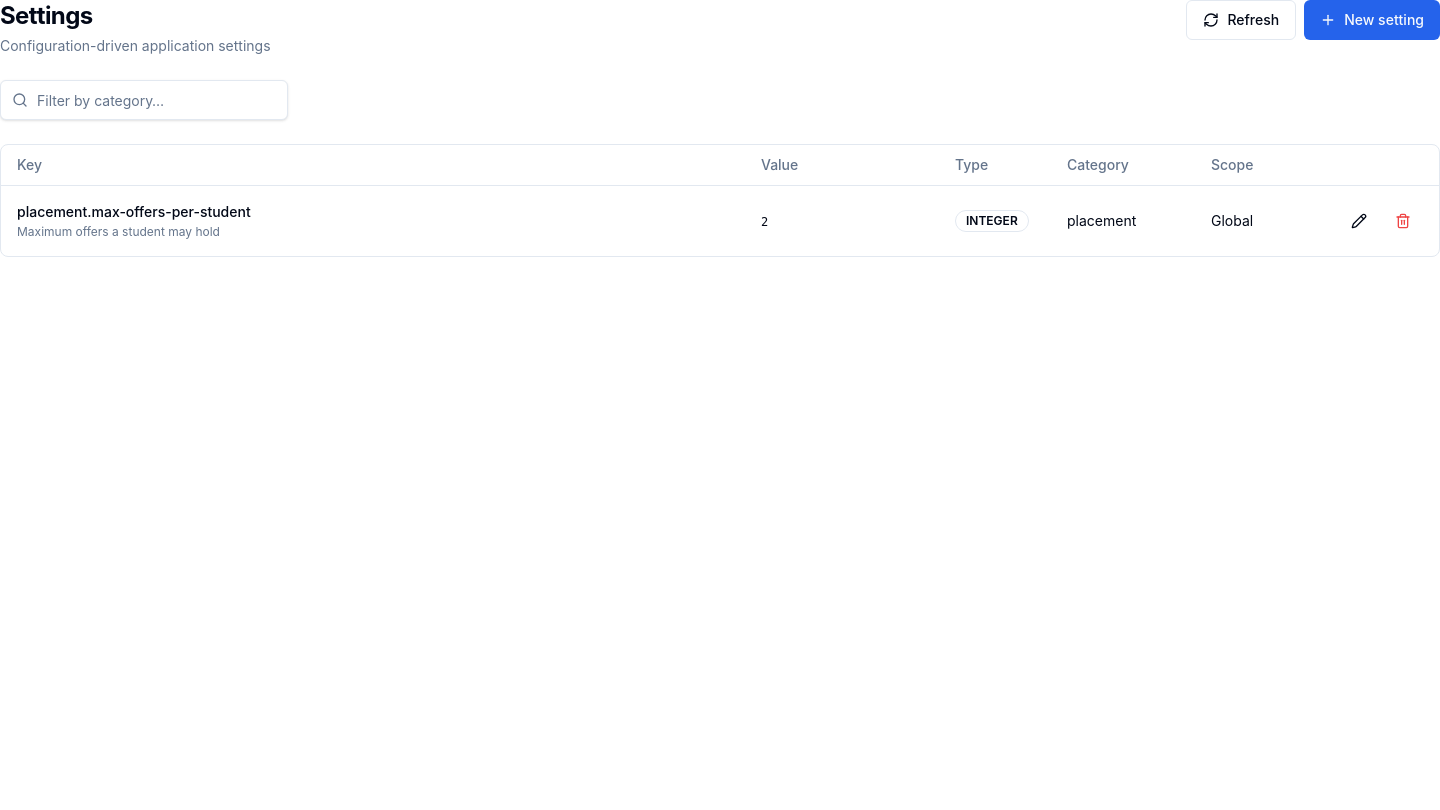
Test: SettingsPage › surfaces a backend failure instead of reporting success
Check: the text "placement.max-offers-per-student" is shown, box top-left (17, 202), bottom-right (251, 220)
Click the button named "edit placement.max-offers-per-student" at coordinates (1359, 220), box top-left (1339, 202), bottom-right (1379, 238)
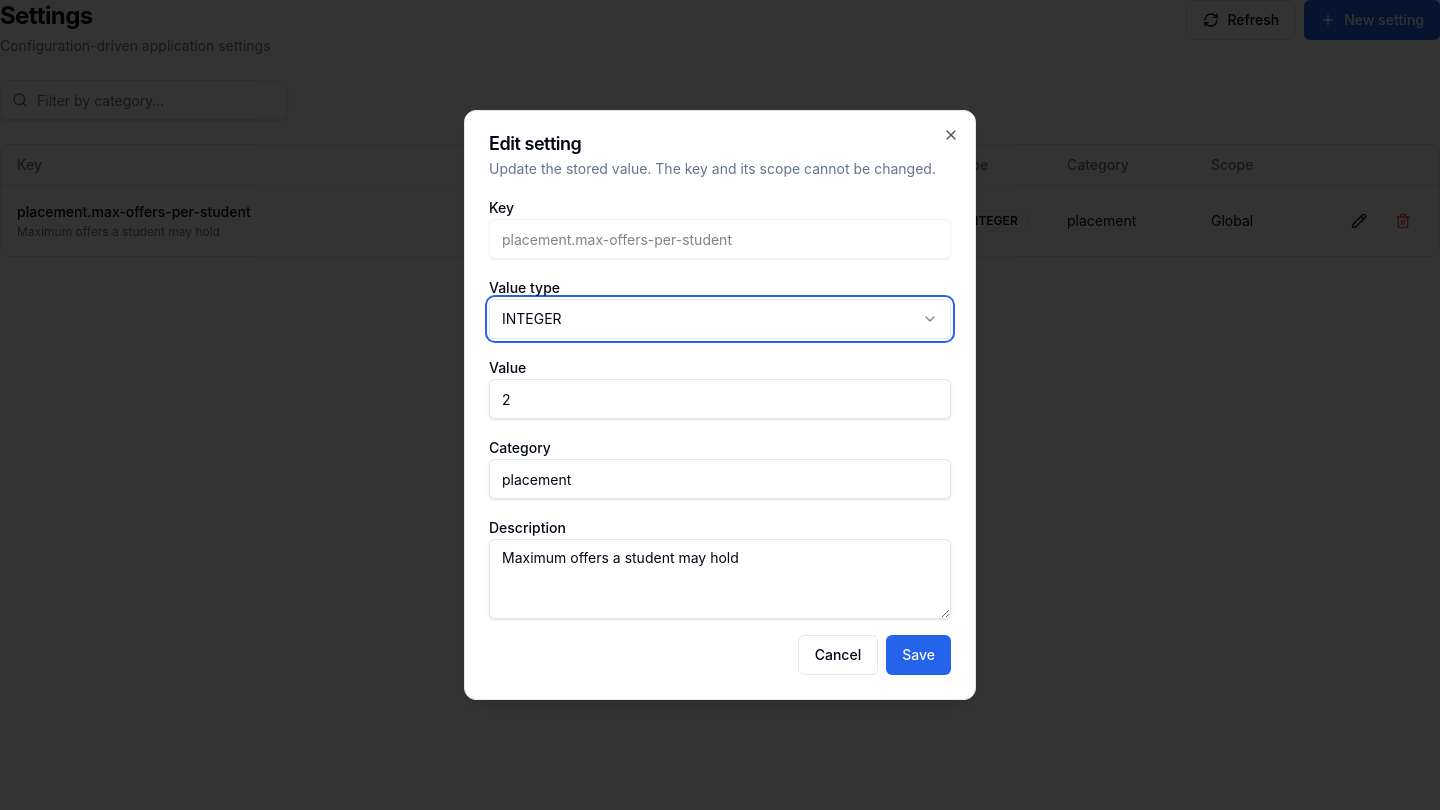
Click the button "Save" at coordinates (919, 655), box top-left (886, 635), bottom-right (951, 675)
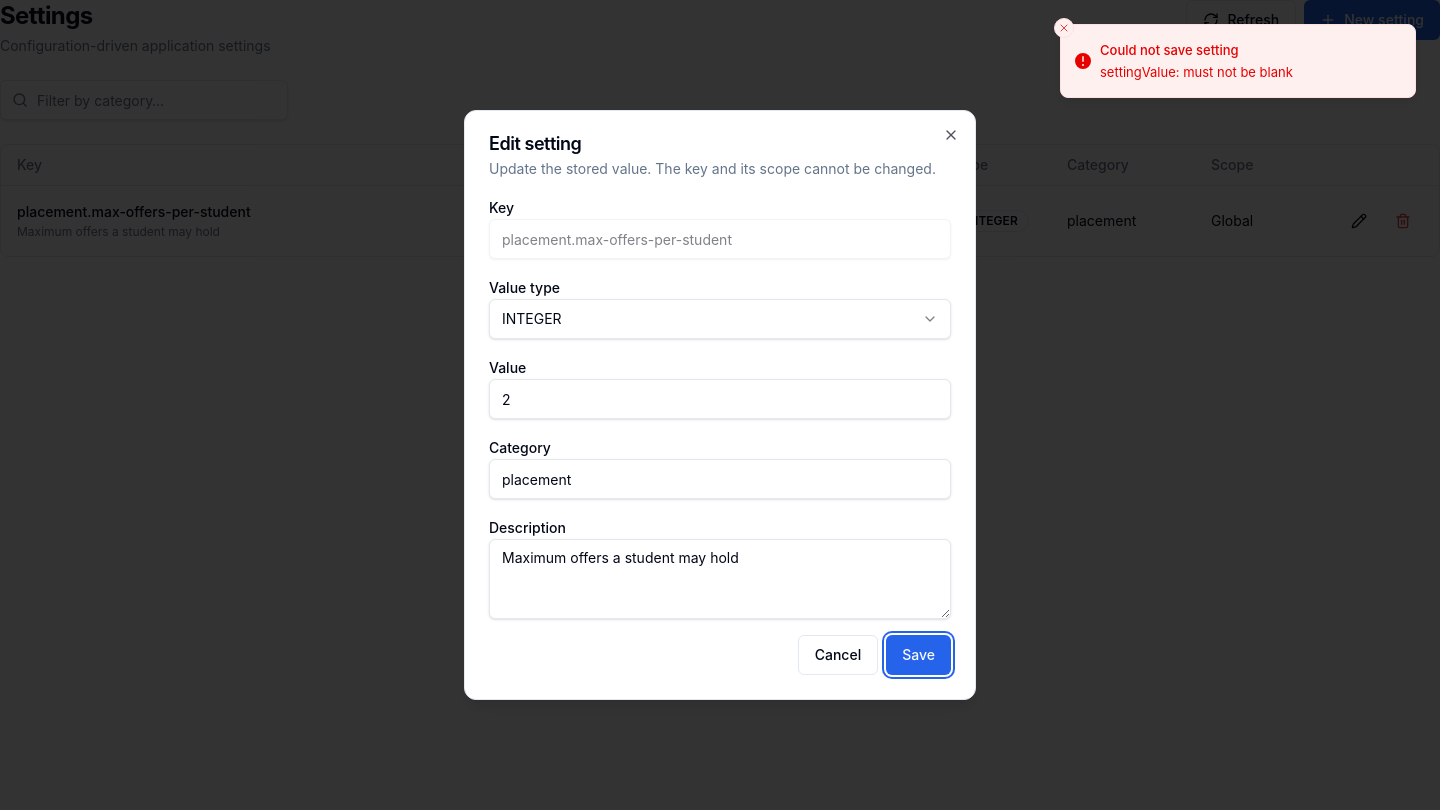
Check: the text "settingValue: must not be blank" is shown, box top-left (1100, 62), bottom-right (1293, 81)
